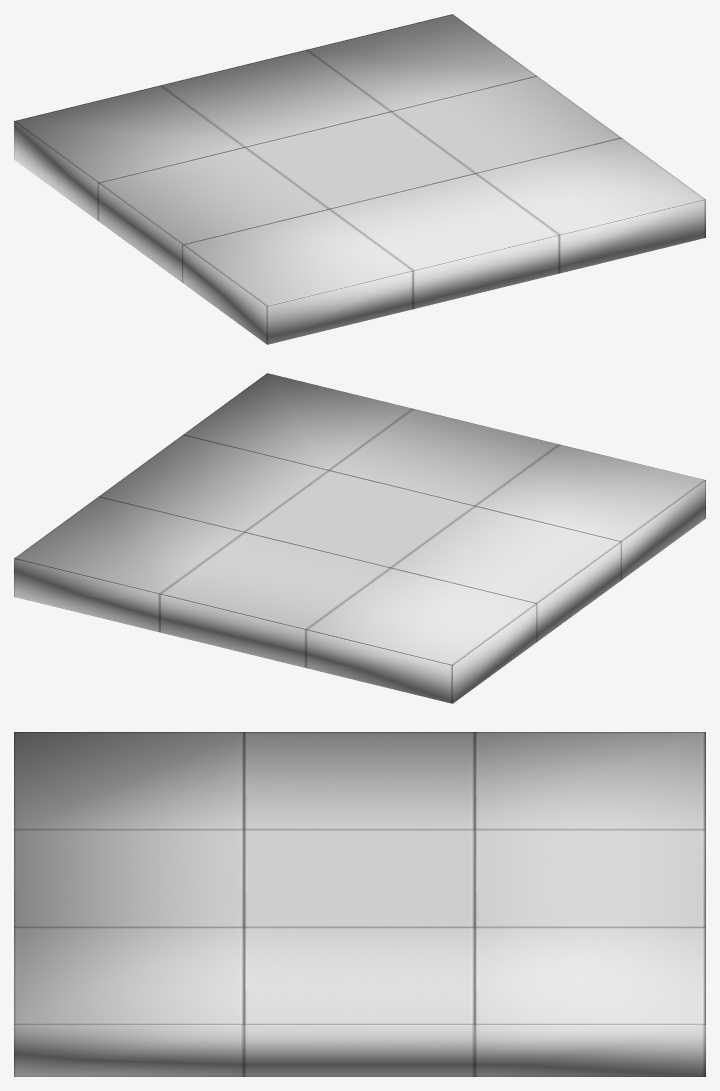
The model's file is Floor-07.fbx.
3 views of the same model, one above another, from view 1: azimuth 30°, elevation 25°; view 2: azimuth 150°, elevation 25°; view 3: azimuth 270°, elevation 25° (orthographic). The views are drawn at different scales.
Parts seen in each view (by area): view 1: Floor-07; view 2: Floor-07; view 3: Floor-07.
Part boxes in pixels (bbox=[...]): Floor-07: bbox=[14, 14, 705, 344]; Floor-07: bbox=[14, 373, 705, 703]; Floor-07: bbox=[14, 732, 705, 1076].
Size of the model in its own units: 3 by 0.25 by 3.
